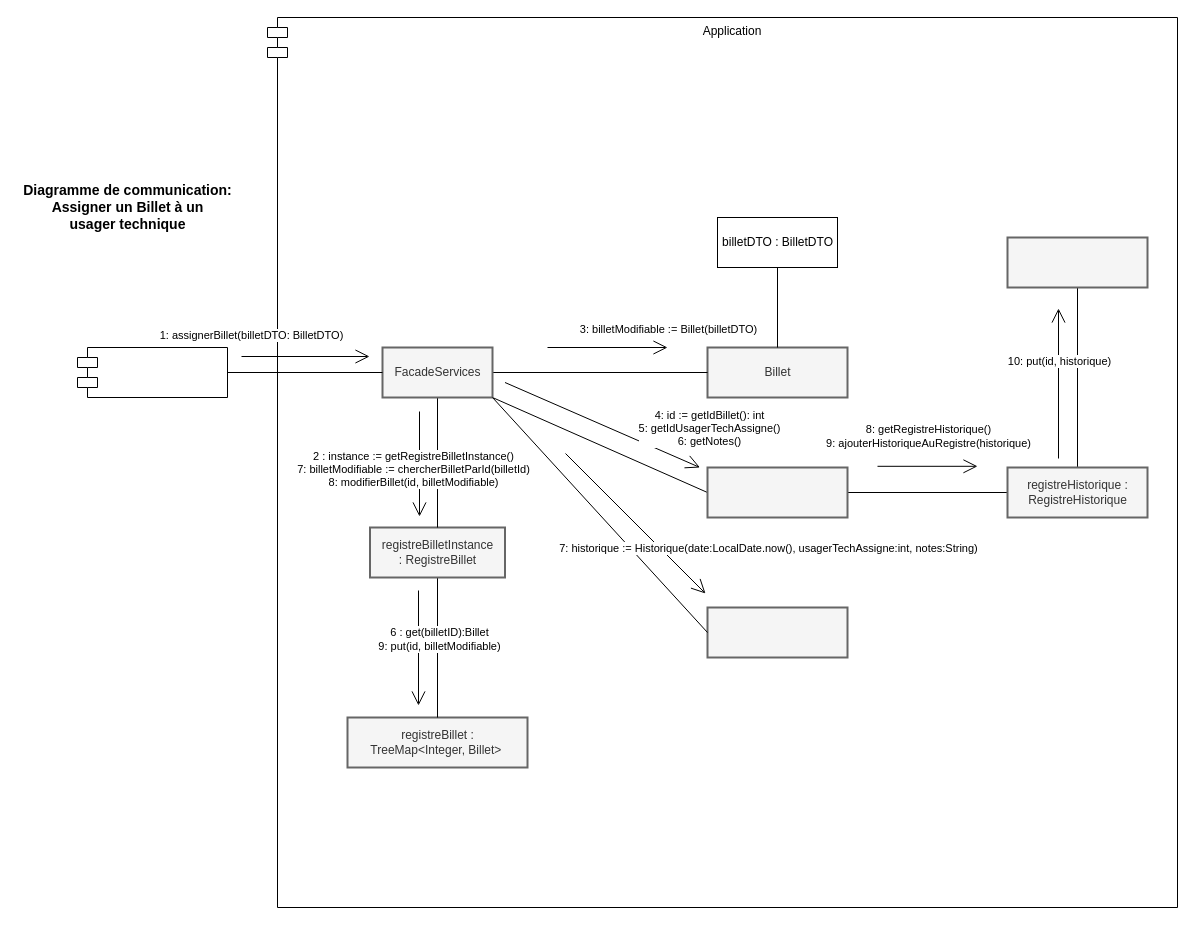
Some shapes in this 1195 by 925 pixel diagram are drawn without their labels. The shapes that lost their labels are listed below. From the top down, each one's centre as x and y in pixels, then its label:
(x=1077, y=262): registreHistorique : TreeMap<Integer, Historique
(x=152, y=372): Coordonateur
(x=777, y=492): billetModifiable : Billet
(x=777, y=632): historique : Historique
